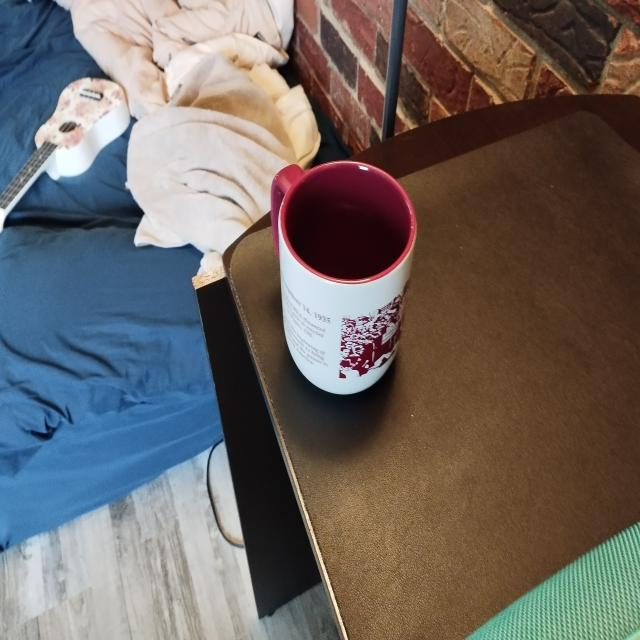Cup: (266, 117, 442, 426)
